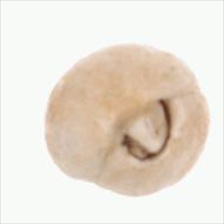L3: (109, 98, 177, 159)
L4: (44, 44, 210, 196)
